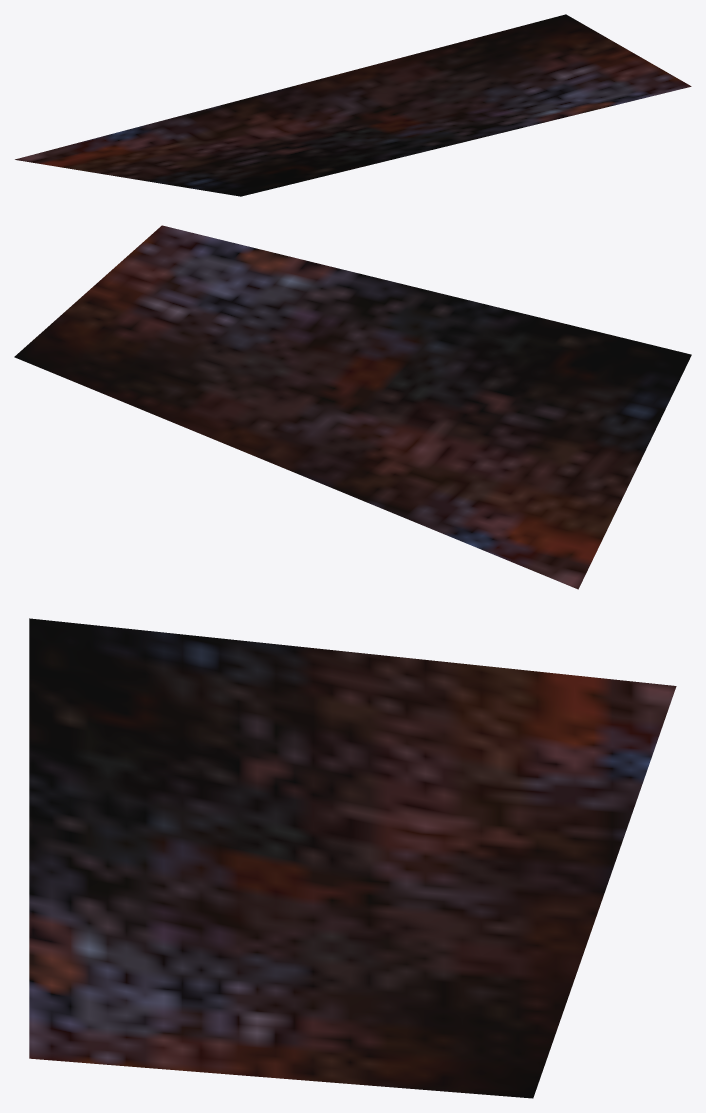
File: shard_wreckVeh_01.glb
3 views of the same model, one above another, from view 1: azimuth 30°, elevation 25°; view 2: azimuth 150°, elevation 25°; view 3: azimuth 270°, elevation 25° (orthographic). The views are drawn at different scales.
Parts seen in each view (by area): view 1: SHARD_WRECKVEH_01; view 2: SHARD_WRECKVEH_01; view 3: SHARD_WRECKVEH_01.
Part boxes in pixels (bbox=[...]): SHARD_WRECKVEH_01: bbox=[15, 14, 691, 196]; SHARD_WRECKVEH_01: bbox=[14, 225, 691, 589]; SHARD_WRECKVEH_01: bbox=[29, 618, 676, 1098].
Bounding box in the file's own units: 0.84 × 0.102 × 0.456.
Materials: 1 (1 with a texture image).
